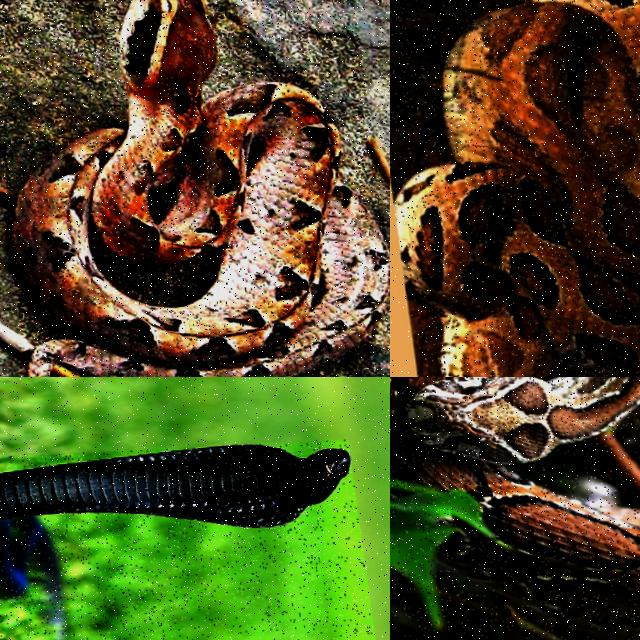Calloselasma rhodostoma: (11, 0, 389, 376)
Daboia siamensis: (396, 0, 639, 376), (390, 377, 639, 639)
Ophiophagus hannah: (0, 445, 349, 639)
snake: (11, 0, 389, 376), (396, 0, 639, 376), (0, 445, 349, 639), (390, 377, 639, 639)
